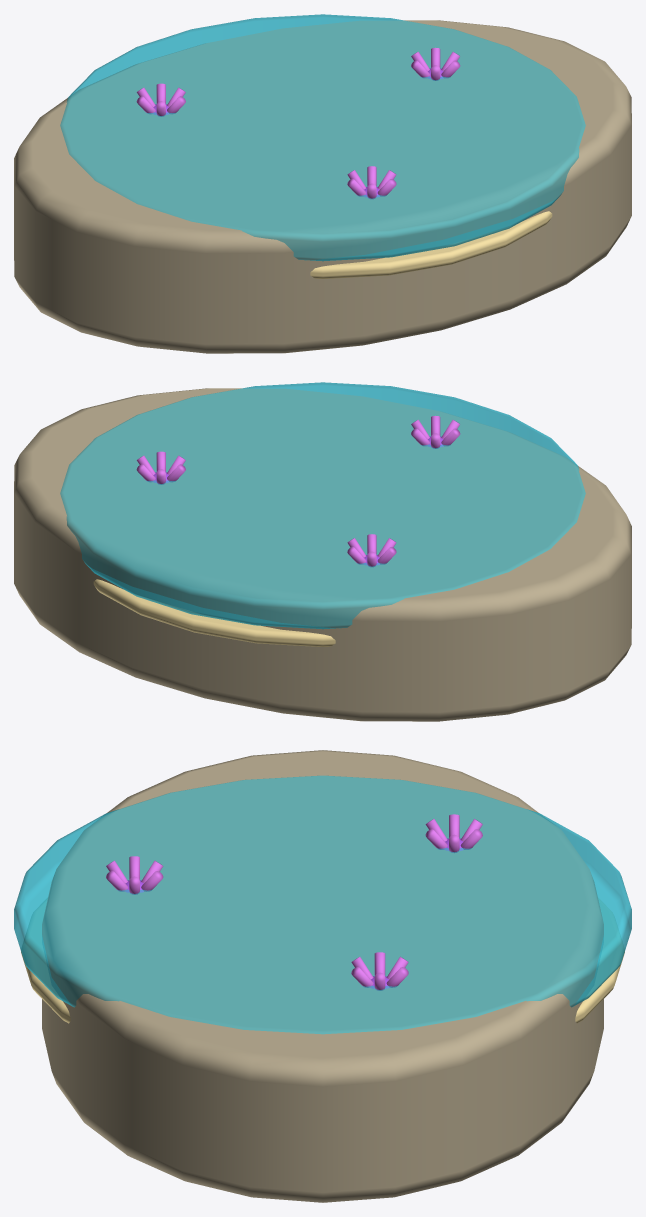
Rendered from touch_pool.glb.
The picture shows the model from 3 angles, top to bottom: view 1: azimuth 30°, elevation 25°; view 2: azimuth 150°, elevation 25°; view 3: azimuth 270°, elevation 25°; orthographic projection. The views are drawn at different scales.
Parts seen in each view (by area): view 1: touch_pool; view 2: touch_pool; view 3: touch_pool.
Boxes of the visible parts, x1,y1,x2,y2 form: touch_pool: (14,14,631,353); touch_pool: (14,382,631,721); touch_pool: (14,750,631,1202).
Bounding box in the file's own units: 2.2 × 0.5144 × 1.76.
